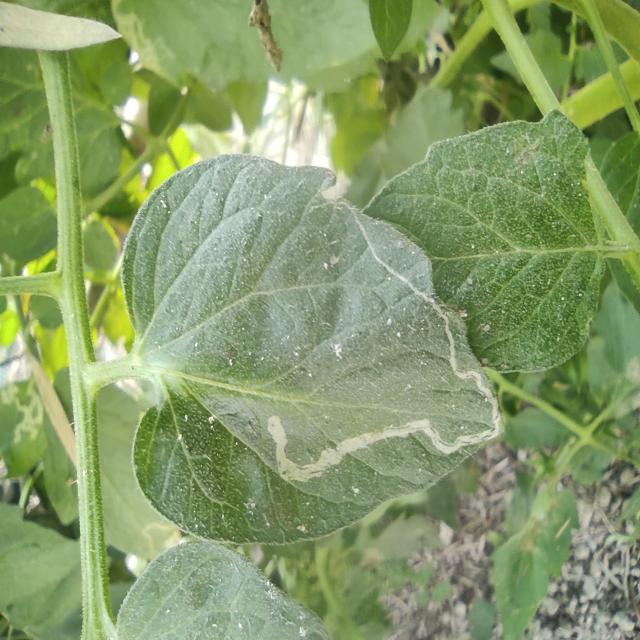Tuta absoluta: (347, 204, 518, 435), (268, 415, 492, 482)
